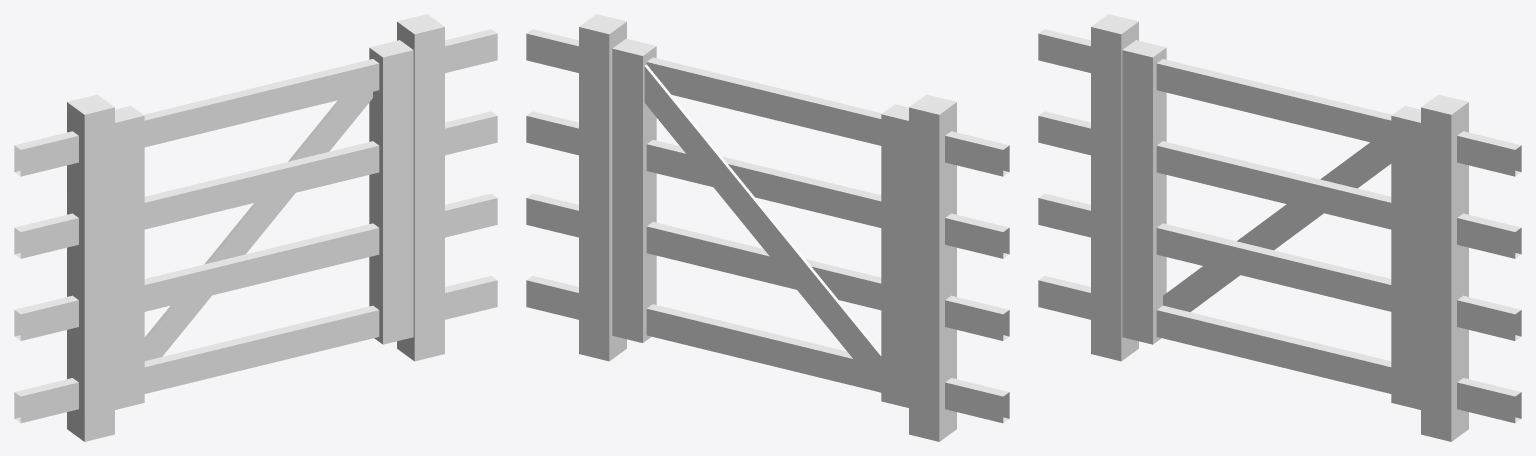
Rendered from Bld_01_Fence_Wood_Gate_Single_Short_Sides_01.glb.
3 renders of one model, left to right at view 1: azimuth 30°, elevation 25°; view 2: azimuth 150°, elevation 25°; view 3: azimuth 330°, elevation 25°, orthographic.
Visible parts, largest first — view 1: Bld_01_Fence_Wood_Gate_Single_Short_01, Bld_01_Fence_Wood_Gate_Single_Short_Sides_01; view 2: Bld_01_Fence_Wood_Gate_Single_Short_01, Bld_01_Fence_Wood_Gate_Single_Short_Sides_01; view 3: Bld_01_Fence_Wood_Gate_Single_Short_01, Bld_01_Fence_Wood_Gate_Single_Short_Sides_01.
Part boxes in pixels (<box>): Bld_01_Fence_Wood_Gate_Single_Short_01: <box>115,40,413,409</box>; Bld_01_Fence_Wood_Gate_Single_Short_Sides_01: <box>14,14,497,441</box>; Bld_01_Fence_Wood_Gate_Single_Short_01: <box>612,38,908,407</box>; Bld_01_Fence_Wood_Gate_Single_Short_Sides_01: <box>526,14,1009,441</box>; Bld_01_Fence_Wood_Gate_Single_Short_01: <box>1122,40,1420,409</box>; Bld_01_Fence_Wood_Gate_Single_Short_Sides_01: <box>1038,14,1521,441</box>.
Size of the model in its own units: 1.8 by 1.18 by 0.1153.
1 material, 1 textured.
